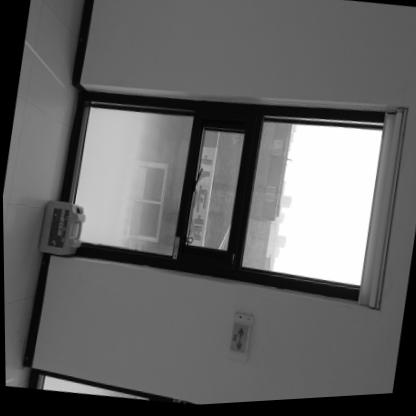DDL: (36, 198, 84, 256)
